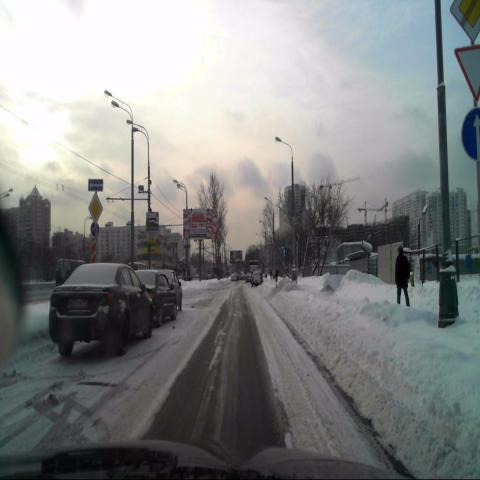5_7_2: (88, 177, 103, 192)
